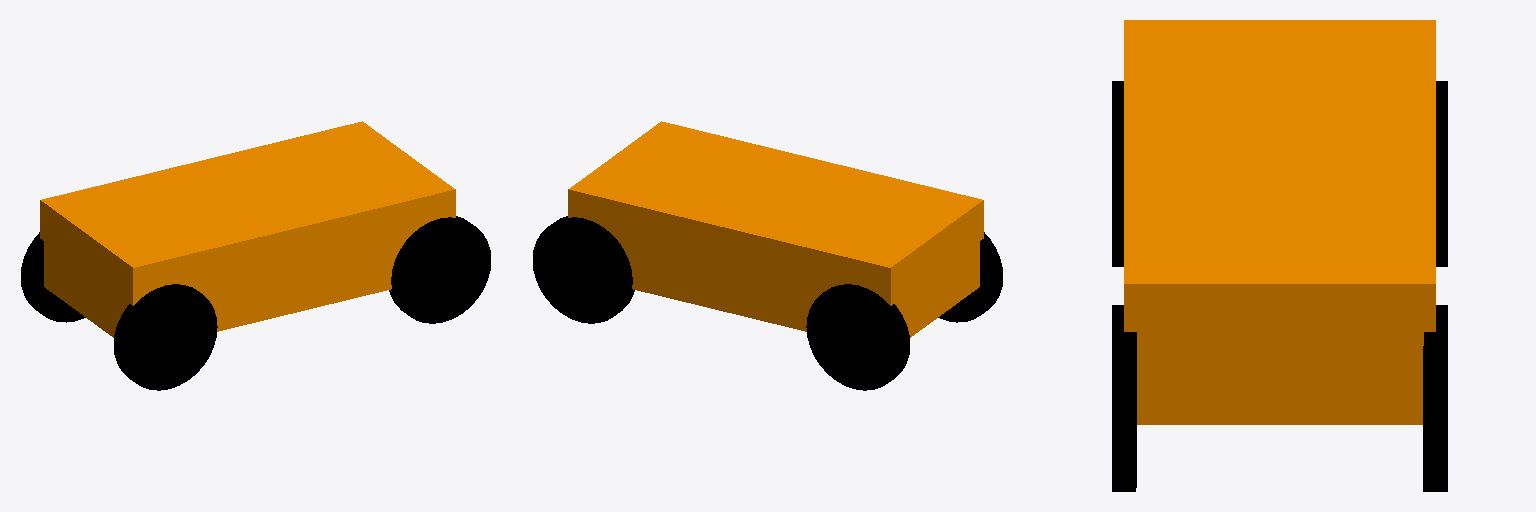
The robot description file, URDF, robot "ackermann_drive":
<?xml version="1.0" ?>
<!-- =================================================================================== -->
<!-- |    This document was autogenerated by xacro from ackermann_rover.xacro.urdf     | -->
<!-- |    EDITING THIS FILE BY HAND IS NOT RECOMMENDED                                 | -->
<!-- =================================================================================== -->
<robot name="ackermann_drive">
  <material name="Black">
    <color rgba="0 0 0 1"/>
  </material>
  <material name="Grey">
    <color rgba="0.8 0.8 0.8 1"/>
  </material>
  <material name="Orange">
    <color rgba="1 0.6 0 1"/>
  </material>
  <material name="White">
    <color rgba="1 1 1 1"/>
  </material>
  <link name="base_link"/>
  <!-- Chassis -->
  <link name="chassis">
    <collision>
      <origin rpy="0 0 0" xyz="0 0 0"/>
      <geometry>
        <box size="2 1 0.5"/>
      </geometry>
    </collision>
    <visual>
      <origin rpy="0 0 0" xyz="0 0 0"/>
      <geometry>
        <box size="2 1 0.5"/>
      </geometry>
      <material name="Orange"/>
    </visual>
    <inertial>
      <origin rpy="0 0 0" xyz="0 0 0"/>
      <mass value="100"/>
      <inertia ixx="10.4" ixy="0.0" ixz="0.0" iyy="35.4" iyz="0.0" izz="41.66"/>
    </inertial>
  </link>
  <joint name="chassis_joint" type="fixed">
    <origin rpy="0 0 0" xyz="0.8 0 0.5"/>
    <parent link="base_link"/>
    <child link="chassis"/>
  </joint>
  <!-- rear left wheel Link -->
  <link name="rear_left_wheel">
    <collision>
      <geometry>
        <cylinder length="0.08" radius="0.3"/>
      </geometry>
    </collision>
    <visual>
      <geometry>
        <cylinder length="0.08" radius="0.3"/>
      </geometry>
      <material name="Black"/>
    </visual>
    <inertial>
      <mass value="11.3"/>
      <inertia ixx="0.26" ixy="0.0" ixz="0.0" iyy="0.26" iyz="0.0" izz="0.51"/>
    </inertial>
  </link>
  <joint name="rear_left_wheel_joint" type="continuous">
    <origin rpy="-1.57 0 0" xyz="-0.8 0.5 -0.2"/>
    <parent link="chassis"/>
    <child link="rear_left_wheel"/>
    <axis xyz="0 0 1"/>
    <dynamics damping="0.2"/>
  </joint>
  <!-- rear right wheel Link -->
  <link name="rear_right_wheel">
    <collision>
      <geometry>
        <cylinder length="0.08" radius="0.3"/>
      </geometry>
    </collision>
    <visual>
      <geometry>
        <cylinder length="0.08" radius="0.3"/>
      </geometry>
      <material name="Black"/>
    </visual>
    <inertial>
      <mass value="11.3"/>
      <inertia ixx="0.26" ixy="0.0" ixz="0.0" iyy="0.26" iyz="0.0" izz="0.51"/>
    </inertial>
  </link>
  <joint name="rear_right_wheel_joint" type="continuous">
    <origin rpy="-1.57 0 0" xyz="-0.8 -0.5 -0.2"/>
    <parent link="chassis"/>
    <child link="rear_right_wheel"/>
    <axis xyz="0 0 1"/>
    <dynamics damping="0.2"/>
  </joint>
  <!-- left steer Link -->
  <link name="left_wheel_steering">
    <inertial>
      <mass value="0.1"/>
      <inertia ixx="0" ixy="0.0" ixz="0.0" iyy="0.0" iyz="0.0" izz="0.0"/>
    </inertial>
  </link>
  <joint name="left_wheel_steering_joint" type="revolute">
    <origin rpy="1.57 0 0" xyz="0.9 -0.5 -0.2"/>
    <parent link="chassis"/>
    <child link="left_wheel_steering"/>
    <axis xyz="0 1 0"/>
    <dynamics damping="0.2"/>
    <limit effort="1000.0" lower="-1.57" upper="1.57" velocity="30"/>
  </joint>
  <!-- right steer Link -->
  <link name="right_wheel_steering">
    <inertial>
      <mass value="0.1"/>
      <inertia ixx="0" ixy="0.0" ixz="0.0" iyy="0.0" iyz="0.0" izz="0.0"/>
    </inertial>
  </link>
  <joint name="right_wheel_steering_joint" type="revolute">
    <origin rpy="1.57 0 0" xyz="0.9 0.5 -0.2"/>
    <parent link="chassis"/>
    <child link="right_wheel_steering"/>
    <axis xyz="0 1 0"/>
    <dynamics damping="0.2"/>
    <limit effort="1000.0" lower="-1.57" upper="1.57" velocity="30"/>
  </joint>
  <!-- front left wheel Link -->
  <link name="front_left_wheel">
    <collision>
      <geometry>
        <cylinder length="0.08" radius="0.3"/>
      </geometry>
    </collision>
    <visual>
      <geometry>
        <cylinder length="0.08" radius="0.3"/>
      </geometry>
      <material name="Black"/>
    </visual>
    <inertial>
      <mass value="11.3"/>
      <inertia ixx="0.26" ixy="0.0" ixz="0.0" iyy="0.26" iyz="0.0" izz="0.51"/>
    </inertial>
  </link>
  <joint name="front_left_wheel_joint" type="continuous">
    <origin rpy="0 0 0" xyz="0 0 0"/>
    <parent link="left_wheel_steering"/>
    <child link="front_left_wheel"/>
    <axis xyz="0 0 1"/>
    <dynamics damping="0.2"/>
  </joint>
  <!-- front right wheel Link -->
  <link name="front_right_wheel">
    <collision>
      <geometry>
        <cylinder length="0.08" radius="0.3"/>
      </geometry>
    </collision>
    <visual>
      <geometry>
        <cylinder length="0.08" radius="0.3"/>
      </geometry>
      <material name="Black"/>
    </visual>
    <inertial>
      <mass value="11.3"/>
      <inertia ixx="0.26" ixy="0.0" ixz="0.0" iyy="0.26" iyz="0.0" izz="0.51"/>
    </inertial>
  </link>
  <joint name="front_right_wheel_joint" type="continuous">
    <origin rpy="0 0 0" xyz="0 0 0"/>
    <parent link="right_wheel_steering"/>
    <child link="front_right_wheel"/>
    <axis xyz="0 0 1"/>
    <dynamics damping="0.2"/>
  </joint>
  <ros2_control name="GazeboSystem" type="system">
    <hardware>
      <plugin>gz_ros2_control/GazeboSimSystem</plugin>
    </hardware>
    <joint name="rear_left_wheel_joint">
      <command_interface name="velocity"/>
      <state_interface name="velocity"/>
      <state_interface name="position"/>
    </joint>
    <joint name="rear_right_wheel_joint">
      <command_interface name="velocity"/>
      <state_interface name="velocity"/>
      <state_interface name="position"/>
    </joint>
    <joint name="left_wheel_steering_joint">
      <command_interface name="position"/>
      <state_interface name="position"/>
    </joint>
    <joint name="right_wheel_steering_joint">
      <command_interface name="position"/>
      <state_interface name="position"/>
    </joint>
  </ros2_control>
  <gazebo>
    <plugin filename="ign_ros2_control-system" name="ign_ros2_control::IgnitionROS2ControlPlugin">
      <parameters>[local-path]/ros2_ws/src/gazebo_ackermann_control/config/ackermann_drive_controller.yaml</parameters>
    </plugin>
  </gazebo>
</robot>

--- What the picture shows (computed from the rendered views, not written in the file) ---
3 views of the same robot in one strip: view 1: azimuth 30°, elevation 25°; view 2: azimuth 150°, elevation 25°; view 3: azimuth 270°, elevation 25° (orthographic).
Model ackermann_drive with 8 links and 7 joints (2 revolute, 4 continuous, 1 fixed), rooted at base_link, posed all joints at 0.
Links seen in each view (by area): view 1: chassis, rear_right_wheel, front_left_wheel, rear_left_wheel; view 2: chassis, rear_left_wheel, front_right_wheel, rear_right_wheel; view 3: chassis, front_left_wheel, front_right_wheel, rear_left_wheel, rear_right_wheel.
Link boxes in pixels (x1,y1,x2,y2): chassis: (40,121,455,337); rear_right_wheel: (114,284,217,390); front_left_wheel: (389,216,490,323); rear_left_wheel: (21,232,85,322); chassis: (568,121,983,337); rear_left_wheel: (806,284,909,390); front_right_wheel: (533,216,634,323); rear_right_wheel: (938,232,1002,322); chassis: (1124,20,1435,424); front_left_wheel: (1112,305,1136,491); front_right_wheel: (1423,305,1447,491); rear_left_wheel: (1436,81,1447,266); rear_right_wheel: (1112,81,1123,266).
Bounding box of the posed robot: 2.3 × 1.08 × 0.75 m (x, y, z).
Geometry: primitives only (box / cylinder / sphere), no mesh files.
